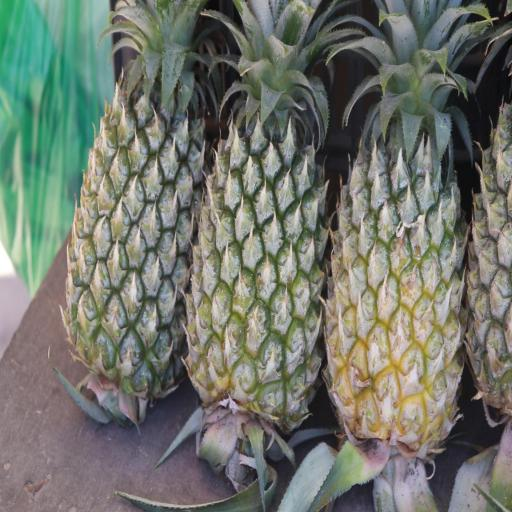------------------------------: (320, 0, 469, 461)
